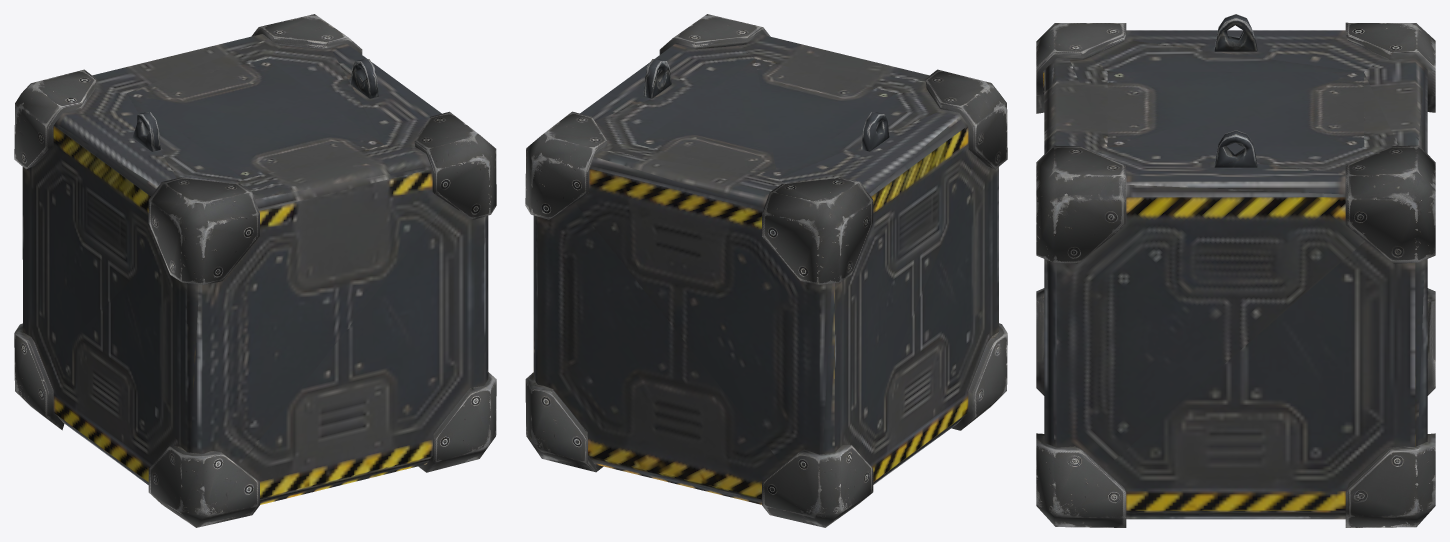
File: crate_small.glb
The picture shows the model from 3 angles, left to right: view 1: azimuth 30°, elevation 25°; view 2: azimuth 150°, elevation 25°; view 3: azimuth 270°, elevation 25°; orthographic projection. The views are drawn at different scales.
Visible parts, largest first — view 1: crate_small; view 2: crate_small; view 3: crate_small.
Part boxes in pixels (bbox=[...]): crate_small: bbox=[14, 14, 496, 527]; crate_small: bbox=[525, 14, 1007, 527]; crate_small: bbox=[1036, 14, 1435, 527].
Size of the model in its own units: 1.43 by 1.5 by 1.44.
1 material, 1 textured.
